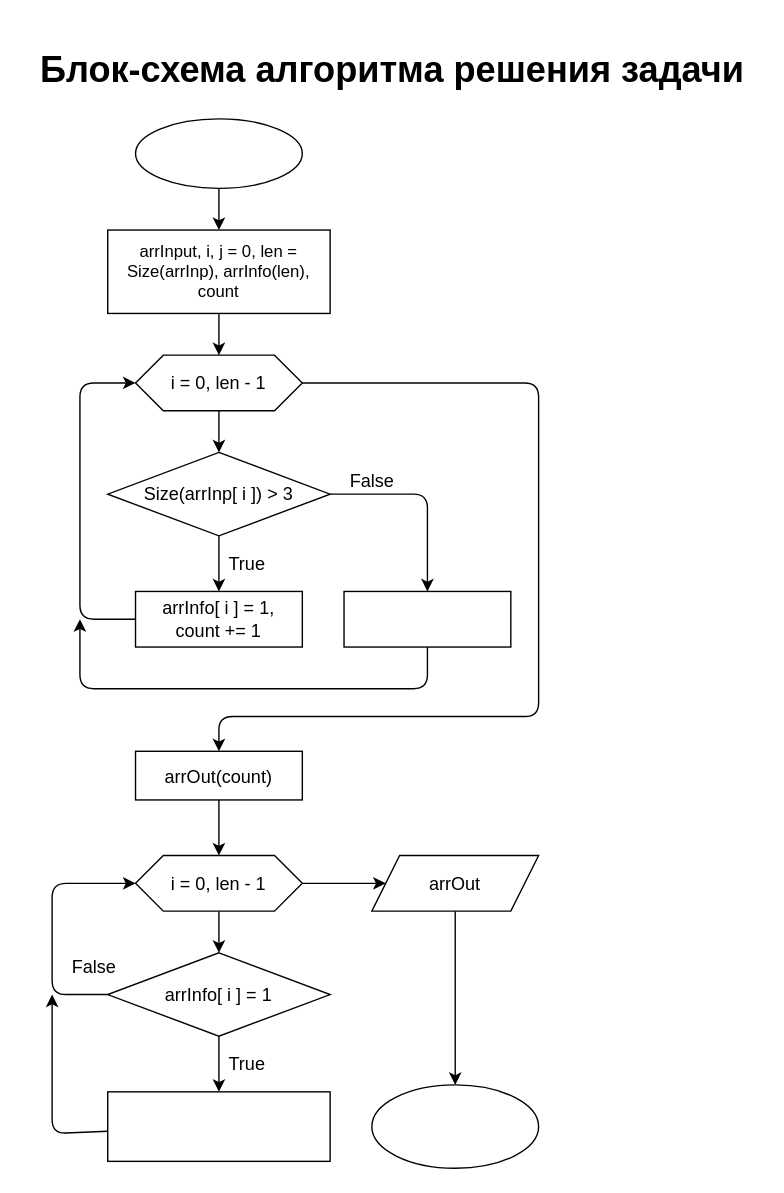
This 784x1193 diagram has some shape labels left out. Here are the shapes that lost their labels. From the top down, the centre of each, then its label:
the point at 218,152: Start
the point at 427,618: arrInfo[ i ] = 0
the point at 218,1125: arrOut[ j ] = arrInp[ i ], j += 1
the point at 454,1126: End
